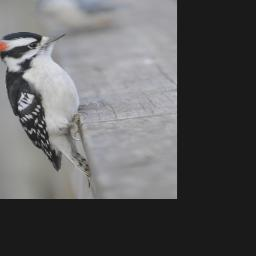Woodpecker: (0, 24, 94, 189)
